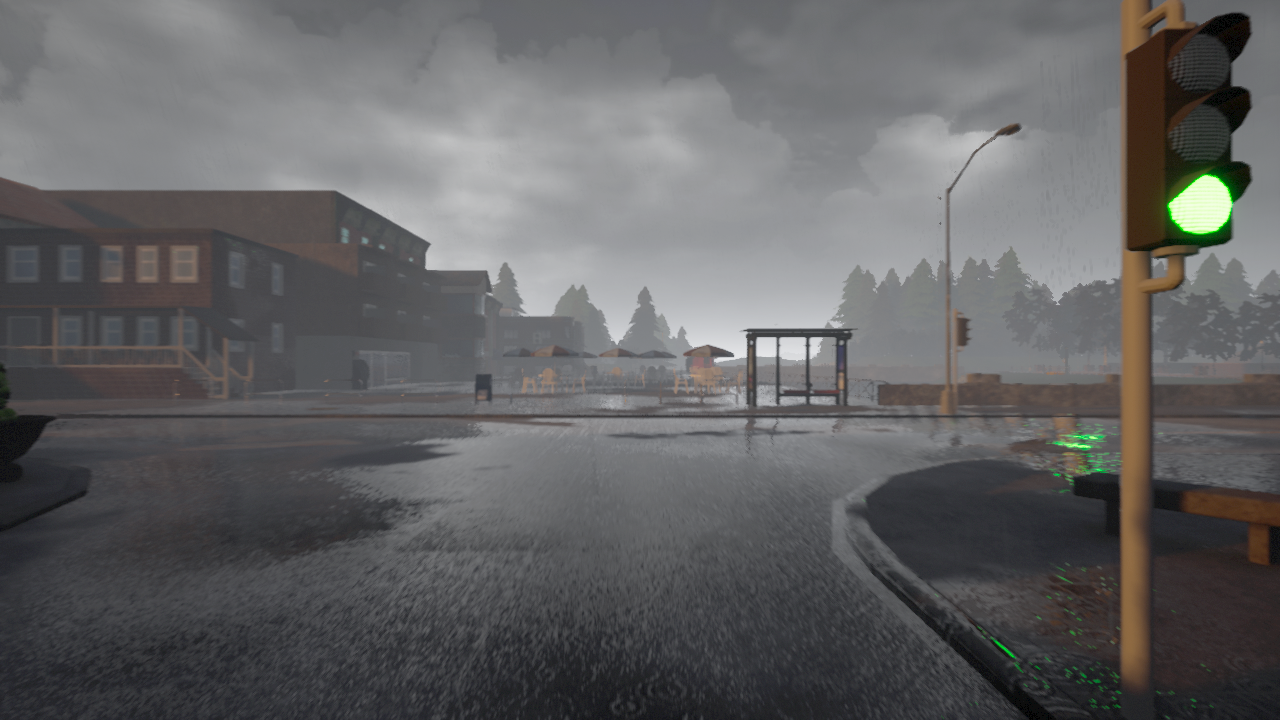green: (1129, 23, 1249, 263)
